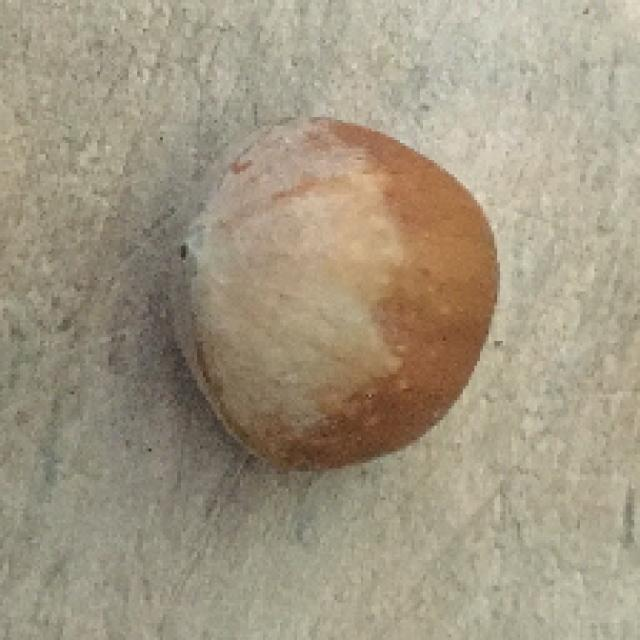qualityHazelnut: (178, 112, 498, 480)
